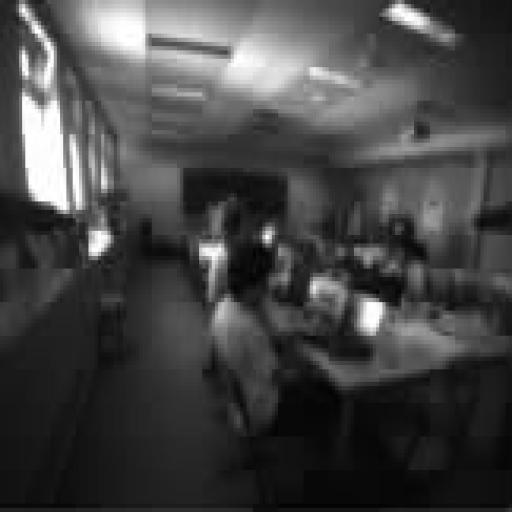human: (212, 240, 338, 440), (206, 198, 243, 314), (206, 198, 243, 310)
